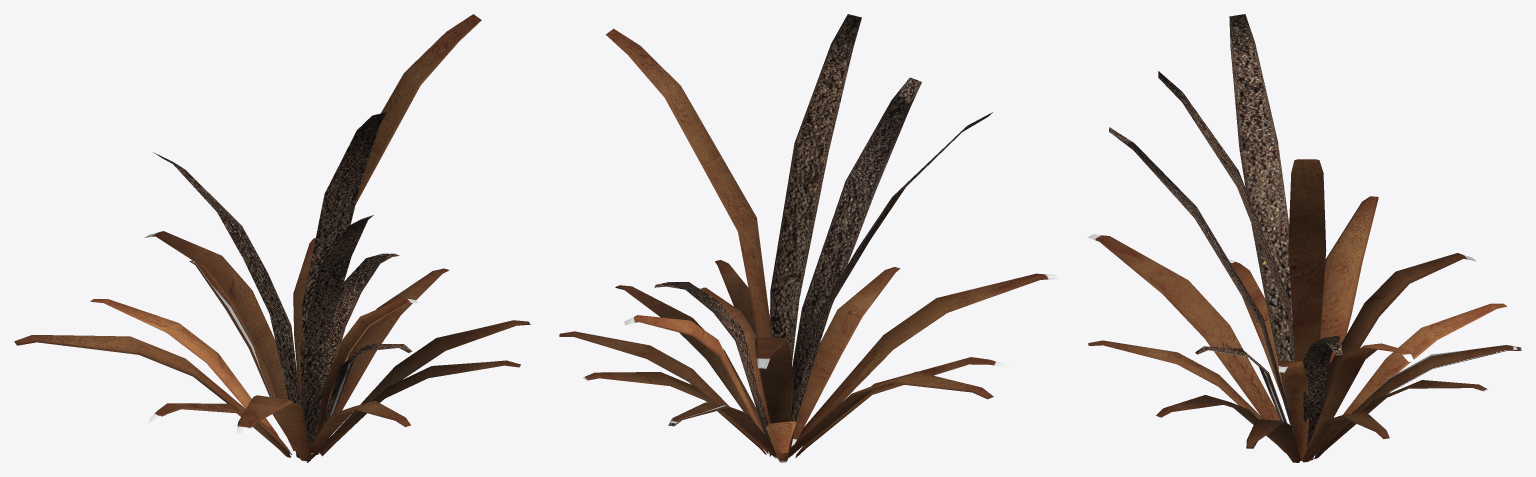
3 renders of one model, left to right at view 1: azimuth 30°, elevation 25°; view 2: azimuth 150°, elevation 25°; view 3: azimuth 270°, elevation 25°, orthographic. The views are drawn at different scales.
Parts seen in each view (by area): view 1: _Plant_1_2; view 2: _Plant_1_2; view 3: _Plant_1_2.
Boxes of the visible parts, x1,y1,x2,y2 form: _Plant_1_2: (14,14,530,462); _Plant_1_2: (559,14,1058,462); _Plant_1_2: (1088,14,1521,462).
Size of the model in its own units: 444 by 374 by 384.
